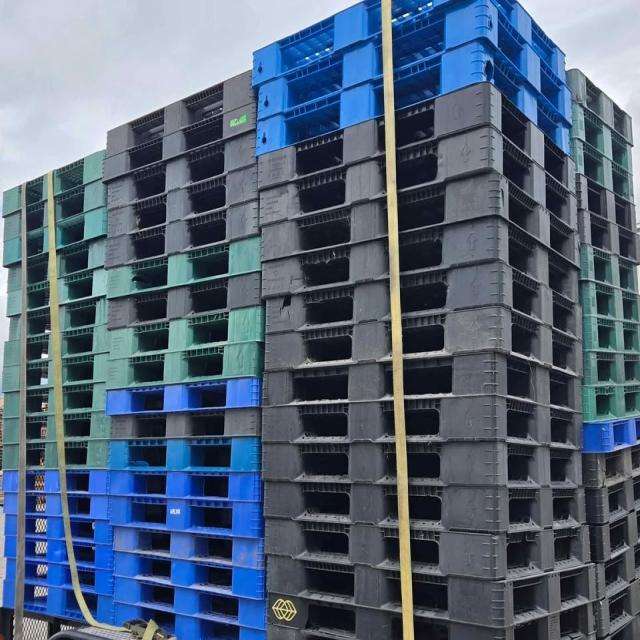non-igps: (252, 0, 576, 132), (249, 35, 574, 164), (253, 77, 580, 203), (253, 118, 582, 236), (255, 166, 585, 275), (258, 210, 583, 316), (260, 255, 587, 352), (262, 548, 600, 637), (260, 298, 589, 385), (260, 509, 595, 590), (258, 342, 586, 420), (257, 387, 586, 458), (258, 472, 590, 541), (248, 0, 485, 94), (258, 430, 586, 495), (264, 584, 600, 640), (99, 91, 264, 188), (101, 65, 262, 164), (103, 122, 261, 217), (104, 155, 265, 246), (101, 191, 267, 277), (102, 227, 268, 304), (103, 266, 271, 336), (105, 298, 270, 367), (102, 332, 271, 396), (110, 572, 272, 636), (105, 488, 268, 546), (110, 547, 272, 604), (109, 519, 271, 575), (0, 170, 112, 246), (0, 143, 108, 221), (101, 372, 266, 422), (0, 200, 112, 272), (104, 432, 266, 478), (110, 594, 270, 640), (102, 464, 268, 507), (5, 231, 110, 298), (0, 574, 119, 632), (561, 64, 638, 152), (4, 260, 111, 322), (106, 404, 267, 444), (7, 290, 112, 348), (2, 318, 113, 372), (566, 93, 636, 178), (3, 552, 118, 602), (0, 345, 112, 396), (567, 129, 637, 210), (0, 374, 111, 424), (0, 405, 116, 449), (2, 530, 118, 574), (1, 508, 116, 551), (572, 167, 640, 239), (0, 435, 114, 477), (572, 201, 640, 270), (574, 233, 640, 299), (0, 463, 111, 500), (0, 488, 112, 524), (574, 272, 640, 331), (580, 470, 640, 530), (586, 502, 639, 568), (592, 536, 640, 608), (575, 309, 640, 361), (577, 439, 640, 492), (590, 573, 639, 640), (577, 379, 640, 428), (576, 344, 640, 392), (577, 411, 640, 459), (592, 606, 640, 640)
